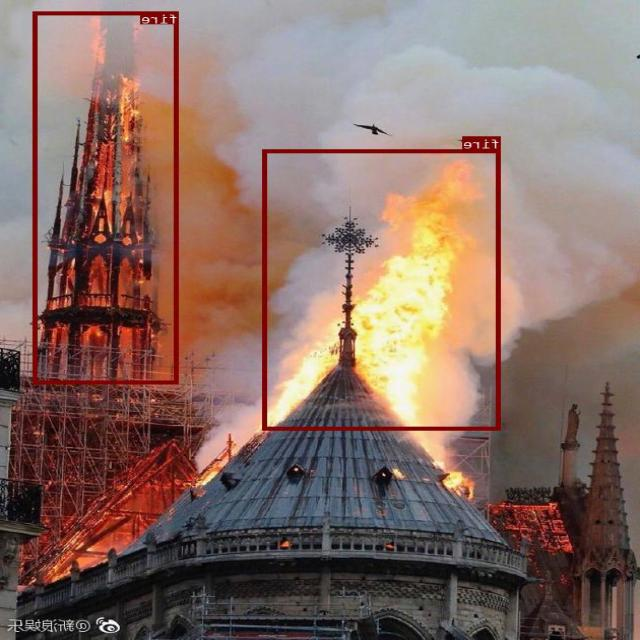fire: (264, 149, 502, 429), (34, 10, 180, 383)
